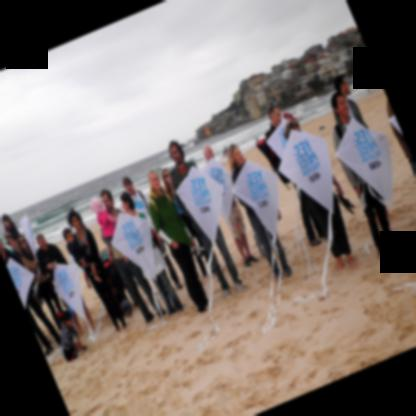backpack: (149, 190, 172, 212), (137, 188, 148, 209)
